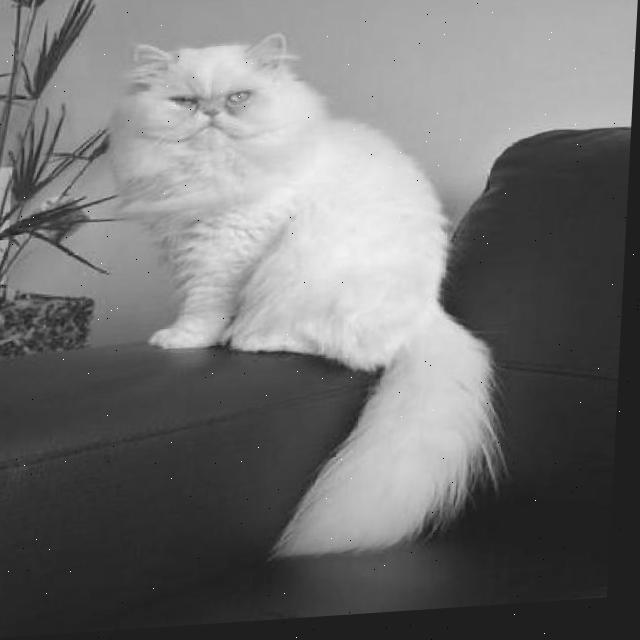Cat: (83, 15, 513, 572)
